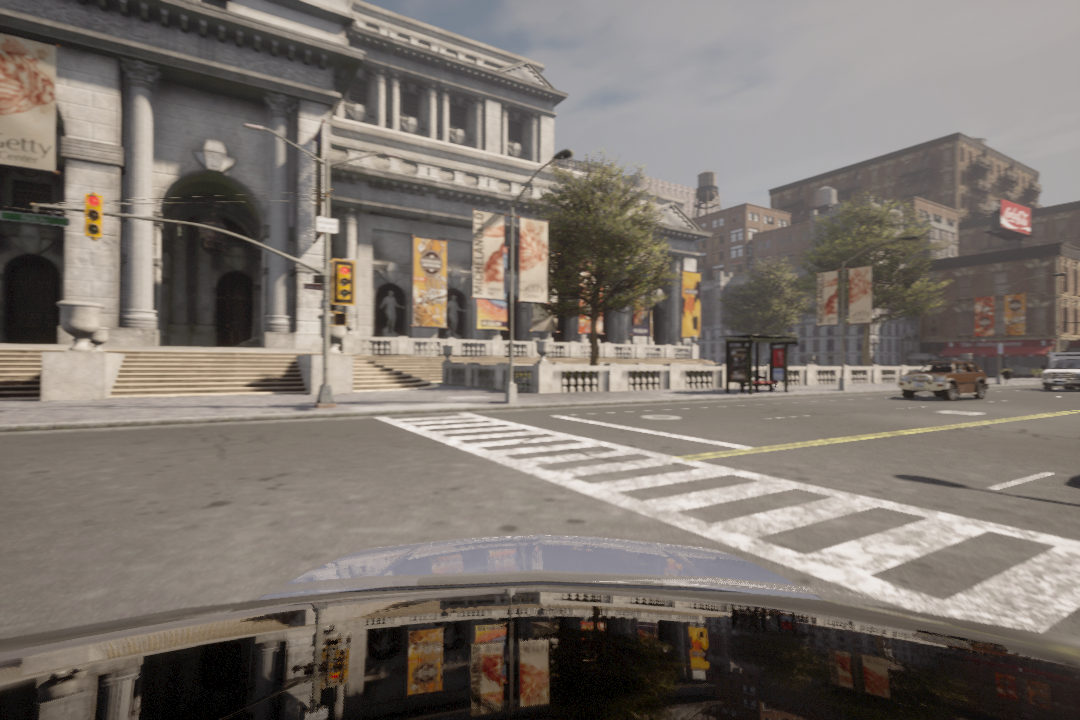TrafficLight: (330, 259, 356, 314), (82, 196, 104, 241)
walkside: (369, 411, 1080, 653)
